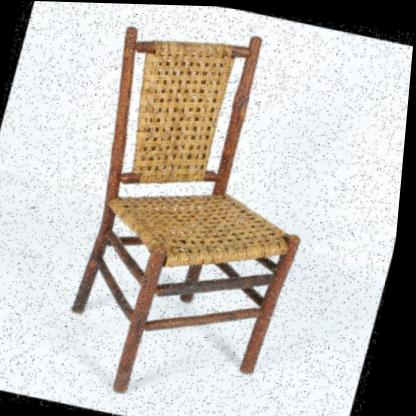Chair: (7, 1, 375, 416)
